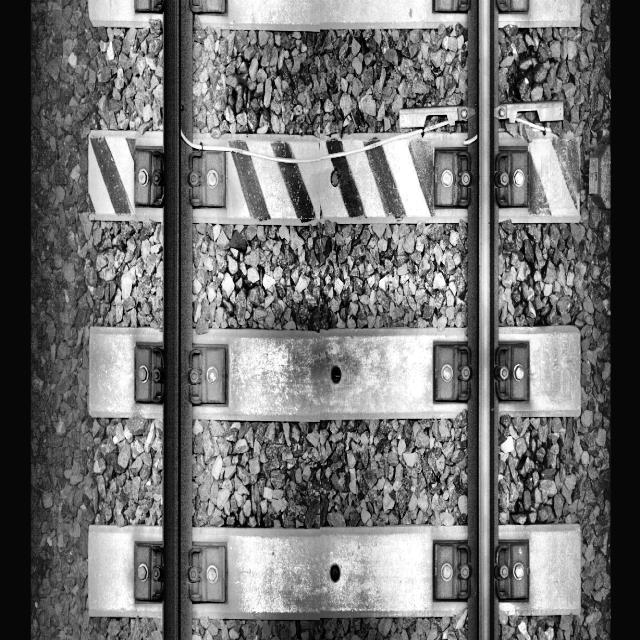Clips: (183, 333, 230, 414), (183, 539, 229, 607), (431, 144, 473, 218), (430, 332, 472, 405), (428, 533, 473, 600), (494, 329, 534, 404), (189, 138, 228, 214), (492, 532, 530, 607), (493, 145, 529, 214), (132, 136, 166, 207), (133, 334, 167, 405), (132, 535, 166, 605)
Sleepers: (84, 122, 584, 240), (87, 324, 582, 426), (87, 521, 584, 622), (87, 0, 582, 29)
